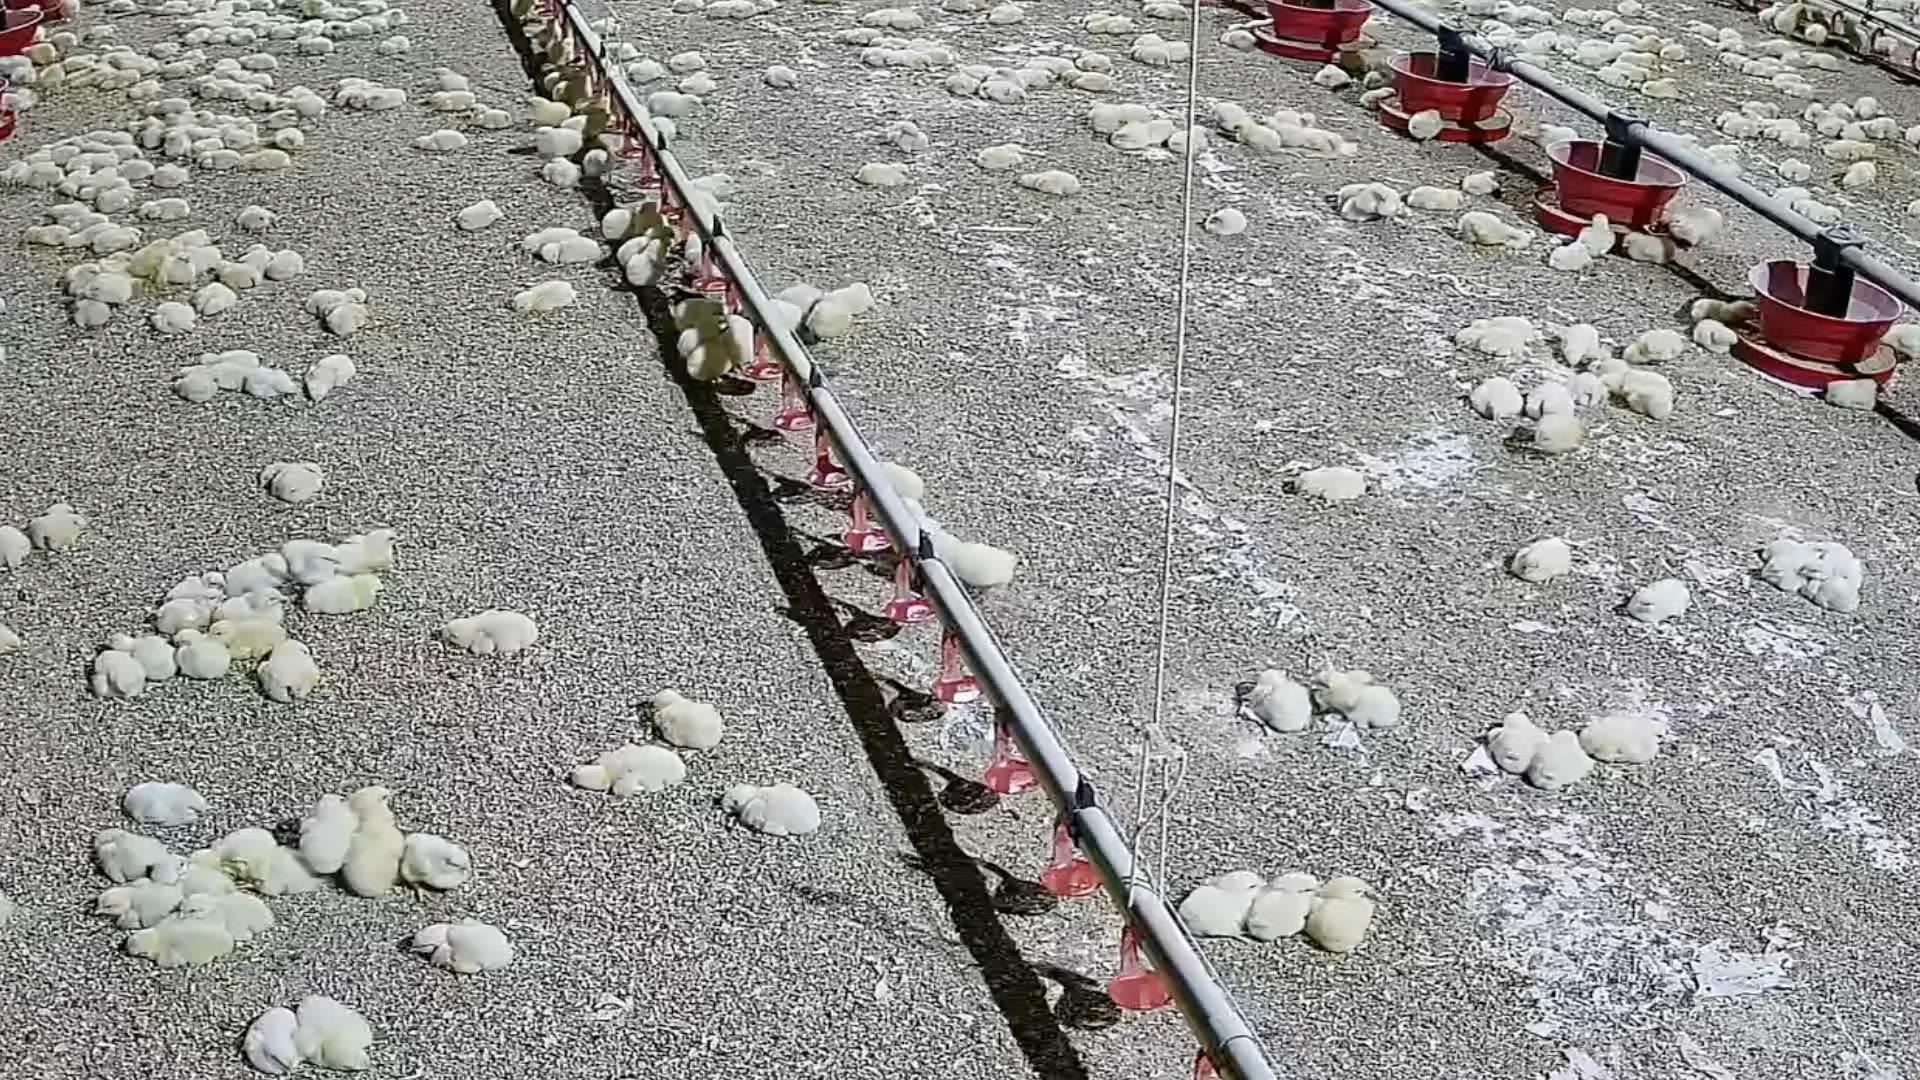poussin: (295, 992, 381, 1069), (567, 745, 686, 796), (1182, 865, 1266, 936), (224, 825, 315, 891), (355, 783, 405, 902), (723, 781, 823, 837), (1316, 870, 1383, 951), (1313, 670, 1402, 731), (1249, 868, 1323, 938), (422, 919, 509, 976), (1582, 709, 1671, 765), (405, 825, 477, 891), (928, 535, 1023, 585), (1234, 671, 1309, 733), (651, 687, 724, 750), (243, 1004, 313, 1068), (443, 608, 537, 653), (90, 824, 174, 873), (124, 930, 239, 965), (98, 877, 183, 924), (1530, 725, 1593, 789), (183, 899, 284, 939), (306, 789, 352, 869), (257, 638, 318, 698), (1286, 465, 1371, 506), (1481, 712, 1544, 766), (303, 574, 386, 615), (1505, 538, 1575, 585), (116, 633, 186, 679), (207, 620, 293, 657), (1461, 380, 1531, 423), (179, 841, 231, 899), (125, 781, 215, 814), (171, 629, 233, 676), (1629, 578, 1692, 624), (1448, 320, 1536, 353), (91, 646, 146, 696), (857, 460, 927, 500), (335, 530, 401, 571), (30, 508, 88, 554), (1760, 534, 1807, 592), (670, 291, 737, 331), (1621, 377, 1676, 425), (1803, 566, 1858, 613), (225, 553, 287, 595), (678, 311, 725, 365), (260, 462, 322, 502), (1526, 421, 1600, 455), (306, 355, 359, 402), (222, 585, 278, 629), (626, 236, 676, 285), (280, 538, 339, 579), (1821, 376, 1882, 414), (688, 334, 729, 389), (1518, 382, 1578, 419), (1556, 373, 1615, 410), (719, 314, 758, 368), (215, 257, 262, 302), (1549, 319, 1606, 356), (1452, 211, 1515, 244), (1633, 327, 1692, 361), (161, 597, 223, 629), (514, 281, 580, 310), (811, 298, 852, 344), (1815, 538, 1867, 574), (1578, 212, 1617, 261), (1105, 120, 1171, 148), (612, 224, 659, 262), (1668, 216, 1718, 252), (125, 239, 177, 273), (1625, 239, 1683, 269), (88, 277, 141, 310), (1692, 319, 1738, 356), (177, 365, 248, 389), (179, 364, 220, 405), (1693, 299, 1759, 324), (1018, 169, 1077, 196), (167, 571, 223, 600), (156, 301, 199, 338), (1085, 104, 1146, 131), (690, 171, 736, 206), (829, 277, 876, 311), (196, 282, 237, 320), (895, 502, 944, 534), (1676, 198, 1731, 225), (1236, 120, 1282, 153), (65, 218, 119, 245), (291, 86, 326, 129), (533, 127, 584, 156), (650, 91, 702, 120), (761, 302, 804, 336), (1362, 182, 1403, 218), (1879, 322, 1920, 357), (244, 372, 298, 398), (141, 198, 195, 224), (541, 243, 597, 268), (1288, 129, 1345, 154), (1774, 186, 1822, 215), (1585, 359, 1635, 386), (1412, 108, 1443, 153), (580, 148, 620, 182), (92, 228, 141, 256), (1134, 32, 1170, 69), (1549, 240, 1589, 273), (978, 144, 1023, 173), (266, 251, 309, 281), (414, 131, 471, 153), (522, 227, 579, 249), (94, 185, 138, 212), (70, 301, 111, 331), (309, 286, 367, 307), (1793, 200, 1842, 225), (545, 156, 582, 189), (601, 207, 638, 240), (1411, 186, 1465, 208), (227, 203, 272, 229), (887, 124, 930, 152), (322, 309, 368, 334), (852, 165, 914, 183), (1213, 100, 1246, 135), (566, 108, 613, 132), (18, 167, 63, 193), (472, 103, 514, 129), (0, 526, 28, 566), (364, 86, 410, 109), (980, 82, 1029, 104), (527, 96, 568, 123), (460, 202, 501, 228), (109, 51, 157, 74), (65, 264, 103, 291), (1840, 17, 1867, 55), (1267, 105, 1317, 127), (22, 225, 75, 245), (1462, 167, 1502, 194), (1844, 158, 1876, 190), (0, 88, 30, 123), (161, 255, 194, 285), (190, 149, 244, 167), (58, 208, 108, 228), (1171, 132, 1215, 154), (1087, 15, 1133, 36), (1824, 141, 1876, 160), (1069, 49, 1110, 73), (789, 282, 822, 311), (1779, 3, 1808, 36), (1062, 74, 1113, 92), (243, 153, 293, 171), (1201, 214, 1245, 235), (153, 61, 194, 83), (1536, 124, 1577, 146), (1642, 76, 1683, 99), (182, 245, 228, 265), (433, 90, 479, 109), (80, 177, 120, 199), (80, 141, 148, 154), (887, 53, 932, 73), (1505, 225, 1535, 255), (237, 245, 269, 273), (680, 71, 717, 95), (1338, 199, 1370, 227), (228, 66, 269, 87), (371, 34, 411, 55), (257, 111, 307, 128), (99, 71, 137, 94), (128, 76, 166, 99), (760, 66, 798, 88), (982, 5, 1022, 26), (1851, 91, 1883, 117), (558, 75, 591, 100), (1026, 55, 1073, 73), (98, 253, 138, 273), (1758, 1, 1783, 33), (1357, 90, 1403, 107), (882, 12, 922, 32), (1803, 54, 1842, 74), (1779, 160, 1812, 183), (25, 41, 62, 62), (70, 149, 115, 166), (628, 58, 662, 80), (161, 132, 191, 157), (1160, 37, 1191, 62), (671, 49, 707, 70), (141, 116, 164, 149), (200, 352, 262, 364), (120, 158, 157, 178), (435, 67, 469, 88), (543, 67, 578, 88), (1142, 4, 1191, 18), (0, 618, 18, 657), (297, 37, 335, 55), (153, 170, 189, 190), (1014, 70, 1055, 87), (50, 30, 83, 51), (1313, 66, 1346, 87), (514, 0, 539, 28), (839, 28, 876, 46), (94, 127, 136, 142), (45, 62, 66, 94), (236, 51, 278, 67), (219, 84, 261, 100), (982, 69, 1021, 86), (0, 53, 33, 73), (1821, 111, 1842, 141), (1706, 146, 1746, 162), (1335, 182, 1362, 204), (1807, 22, 1829, 50), (1218, 29, 1251, 47), (1361, 70, 1394, 88), (49, 198, 87, 214), (66, 57, 104, 73), (224, 128, 252, 149), (855, 50, 891, 66), (167, 233, 207, 248), (1779, 82, 1812, 99), (1601, 20, 1654, 30), (153, 41, 185, 58), (1687, 18, 1716, 37), (277, 129, 307, 146), (949, 78, 980, 95), (13, 66, 36, 88), (1621, 3, 1652, 18), (1660, 42, 1687, 61), (55, 144, 76, 166), (182, 29, 207, 47), (555, 40, 571, 69), (249, 98, 285, 109), (1739, 103, 1779, 113), (1832, 102, 1851, 121), (675, 0, 702, 15), (91, 46, 135, 54), (190, 49, 211, 63), (91, 26, 119, 36)
